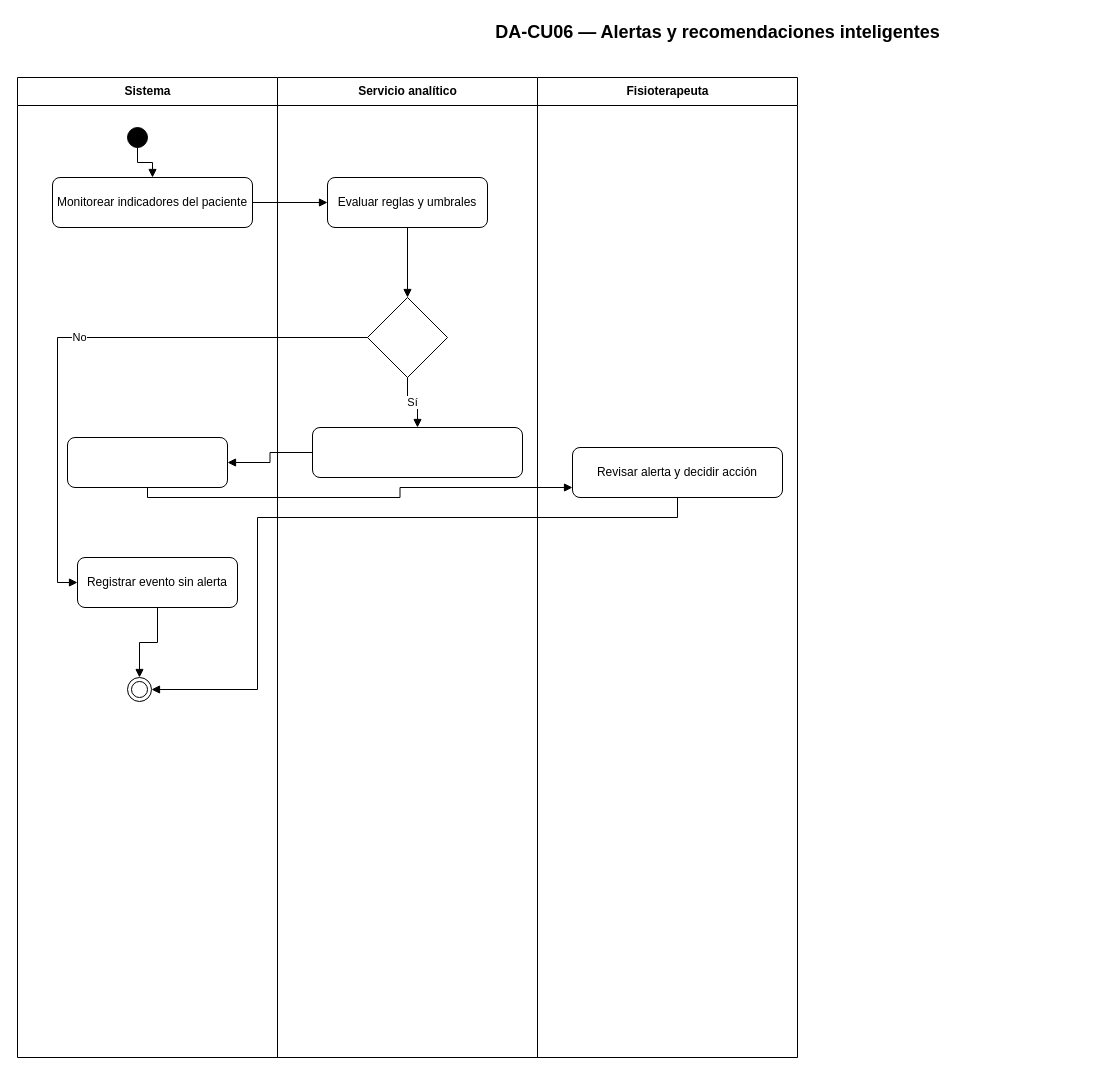
Some shapes in this 1115 by 1075 pixel diagram are drawn without their labels. Here are the shapes that lost their labels. From the top down, the centre of each, then its label:
At (407,337): "¿Existe desviación o riesgo?".
At (147,462): "Mostrar alerta priorizada".
At (417,452): "Generar alerta y recomendación".
